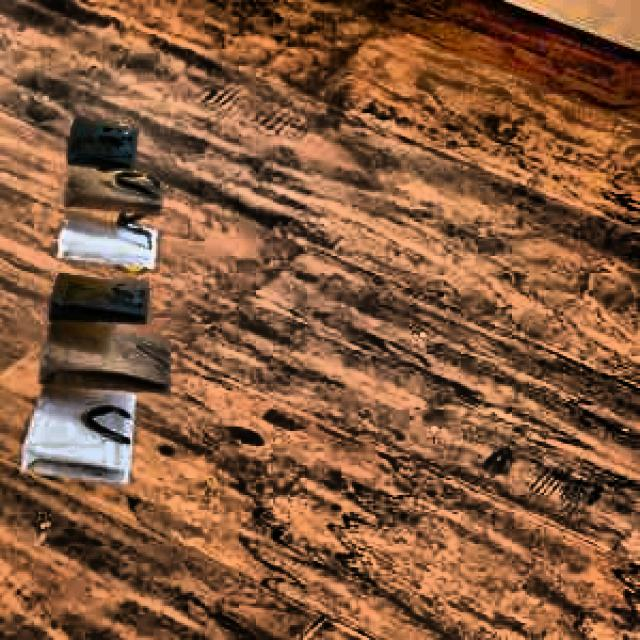Paper-bag: (3, 105, 184, 488)
